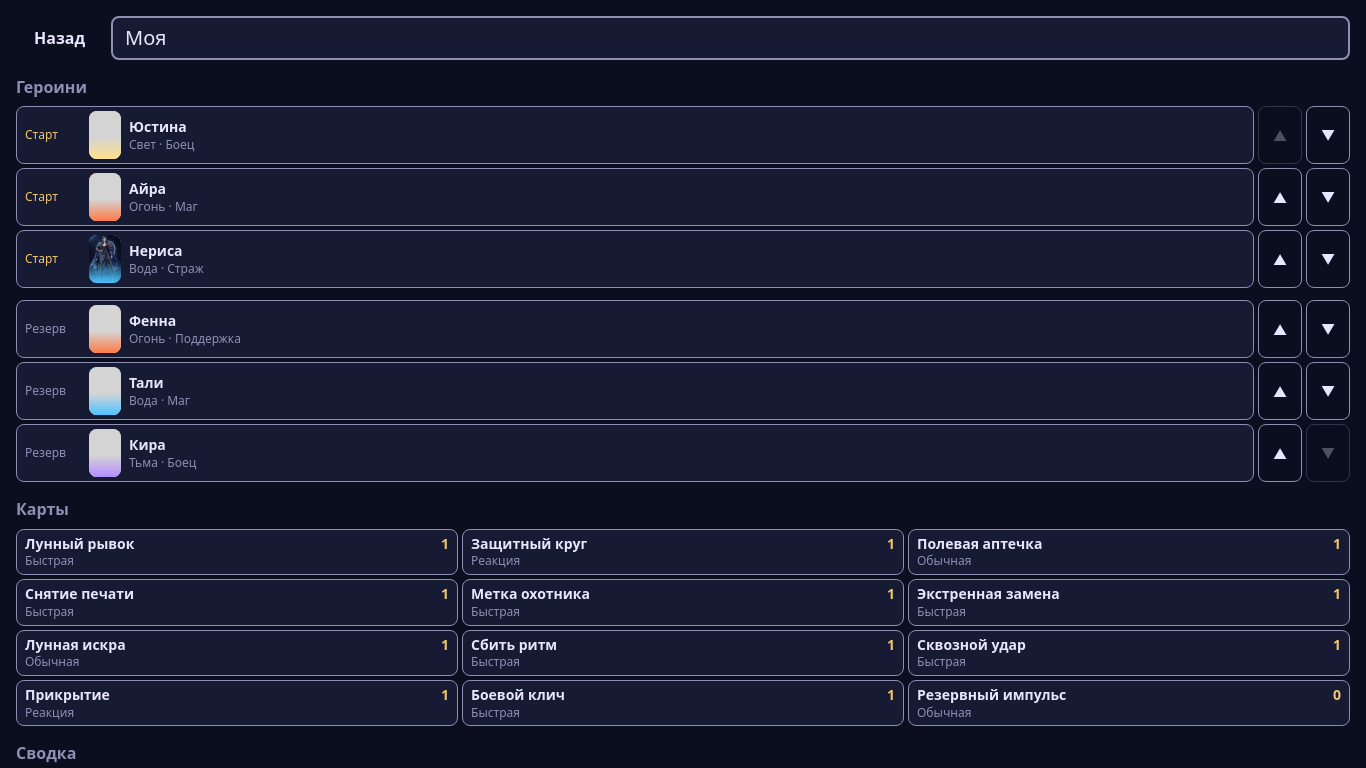
Scenario: конструктор колоды › выбор героини: в списке только открытые и не взятые, с фильтром по роли
Click the button with test id "hero-slot-0": (42, 134) left=16, top=106, right=1254, bottom=164
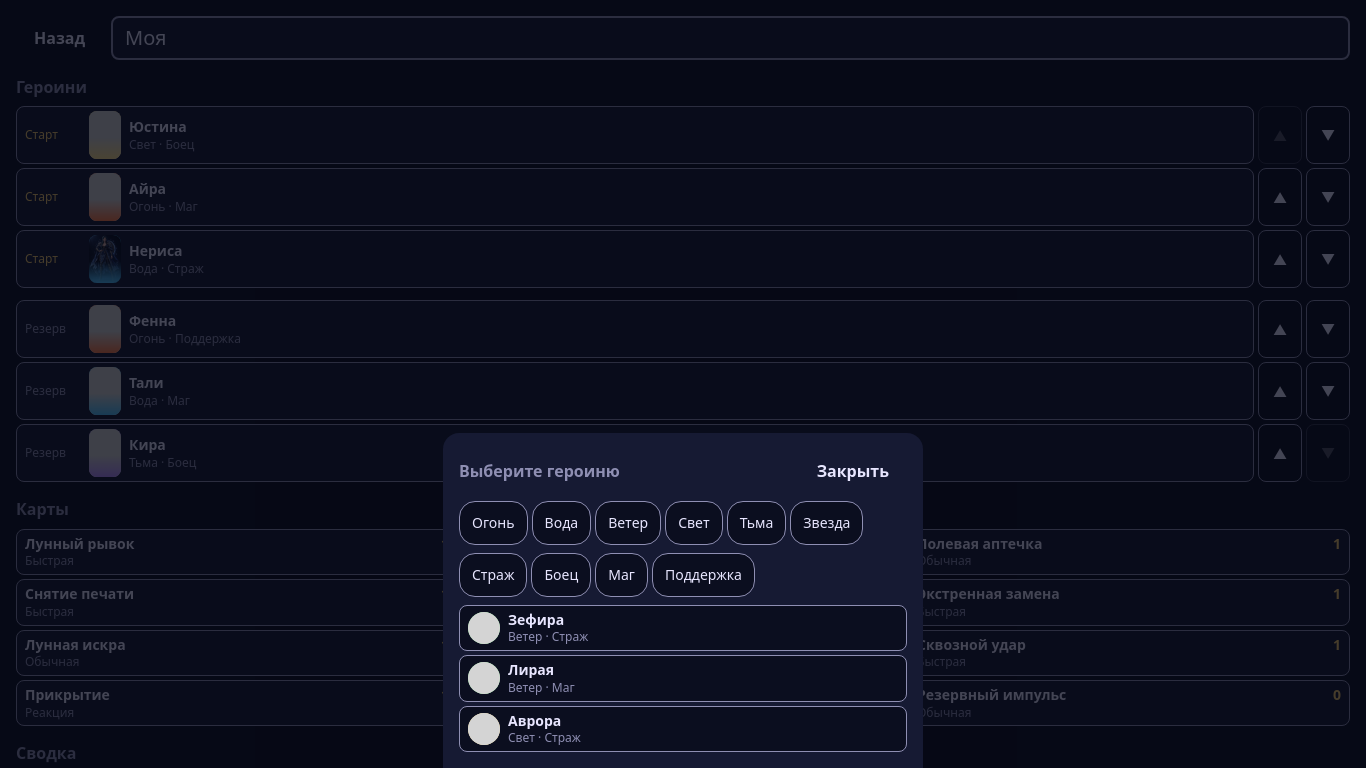
Click the button "Страж": (493, 575) left=459, top=553, right=528, bottom=597
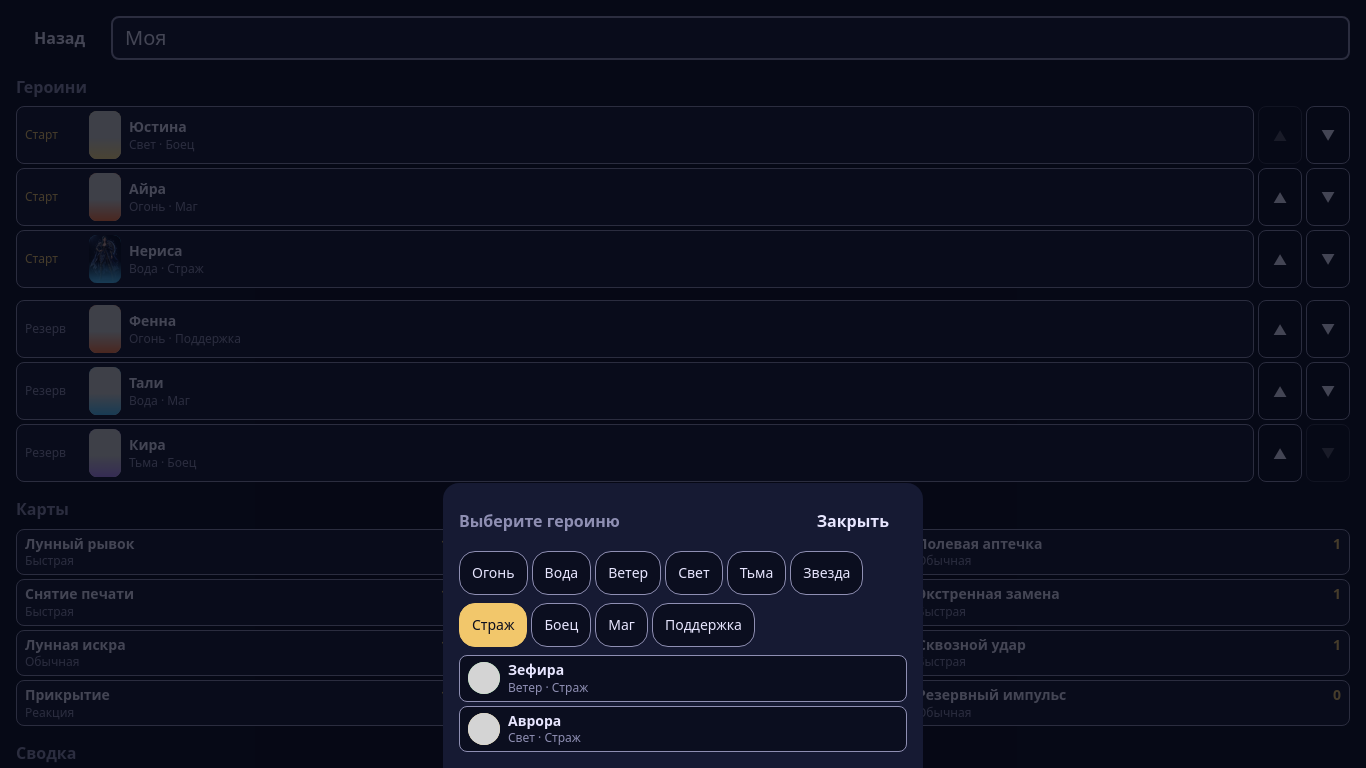
Click the button "Зефира Ветер · Страж": (484, 678) left=459, top=655, right=907, bottom=702
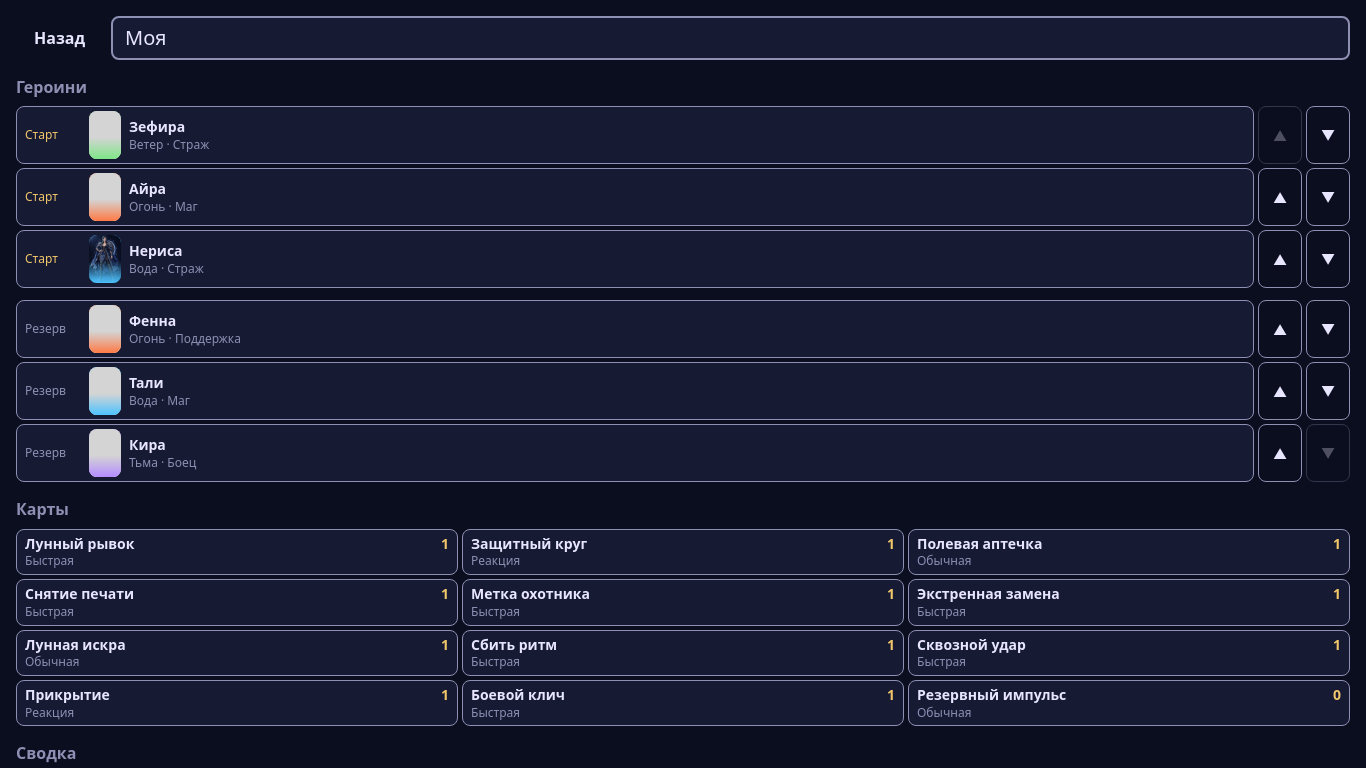
Now the button with test id "hero-slot-0" shows "Зефира", box left=16, top=106, right=1254, bottom=164
